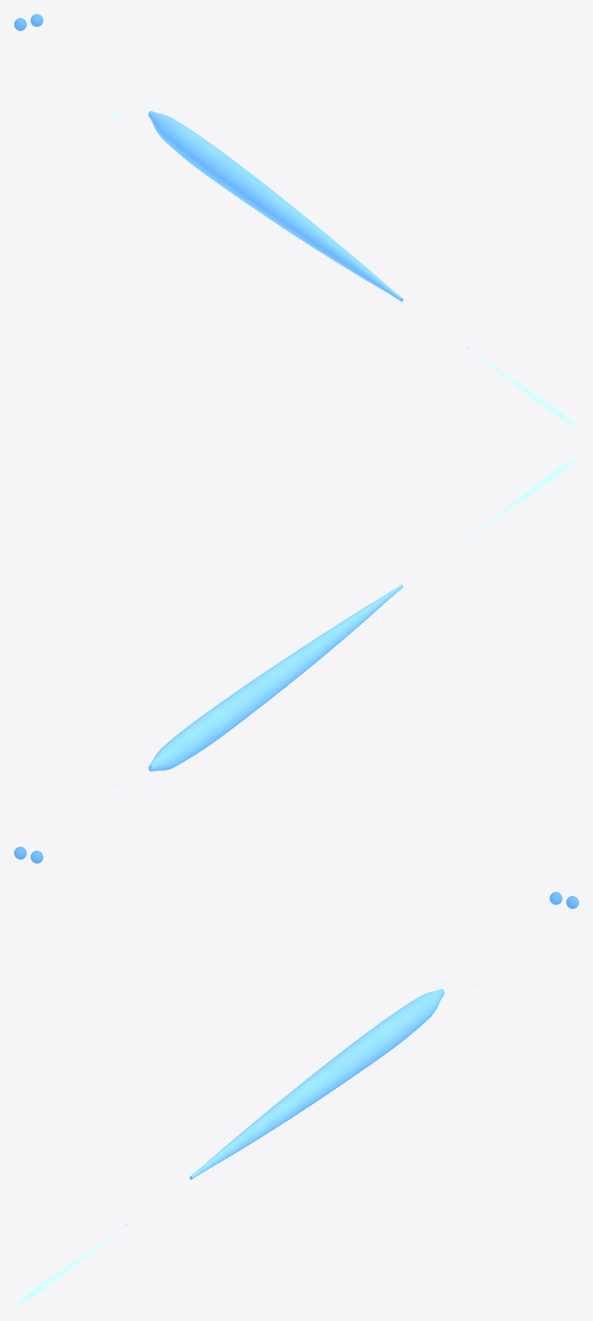
File: nemichthys_scolopaceus.glb
3 views of the same model, one above another, from view 1: azimuth 30°, elevation 25°; view 2: azimuth 150°, elevation 25°; view 3: azimuth 330°, elevation 25° (orthographic).
Parts seen in each view (by area): view 1: nemichthys_scolopaceus; view 2: nemichthys_scolopaceus; view 3: nemichthys_scolopaceus.
Boxes of the visible parts, <box> form: nemichthys_scolopaceus: <box>14,14,578,428</box>; nemichthys_scolopaceus: <box>14,457,578,863</box>; nemichthys_scolopaceus: <box>14,892,578,1306</box>.
Bounding box in the file's own units: 0.0911 × 0.0604 × 2.19.
2 materials, 2 textured.
